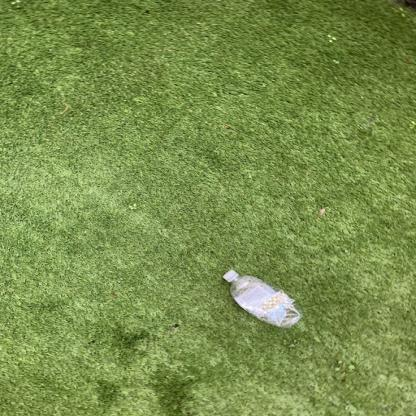trash: (223, 269, 302, 329)
